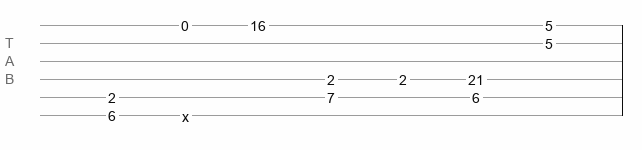0: (181, 18, 189, 28)
16: (250, 18, 266, 28)
2: (108, 90, 116, 100), (327, 72, 335, 82), (399, 72, 407, 82)
21: (468, 72, 484, 82)
5: (545, 18, 553, 28), (545, 36, 553, 46)
6: (108, 108, 116, 118), (472, 90, 480, 100)
7: (327, 90, 335, 100)
x: (182, 109, 189, 117)
